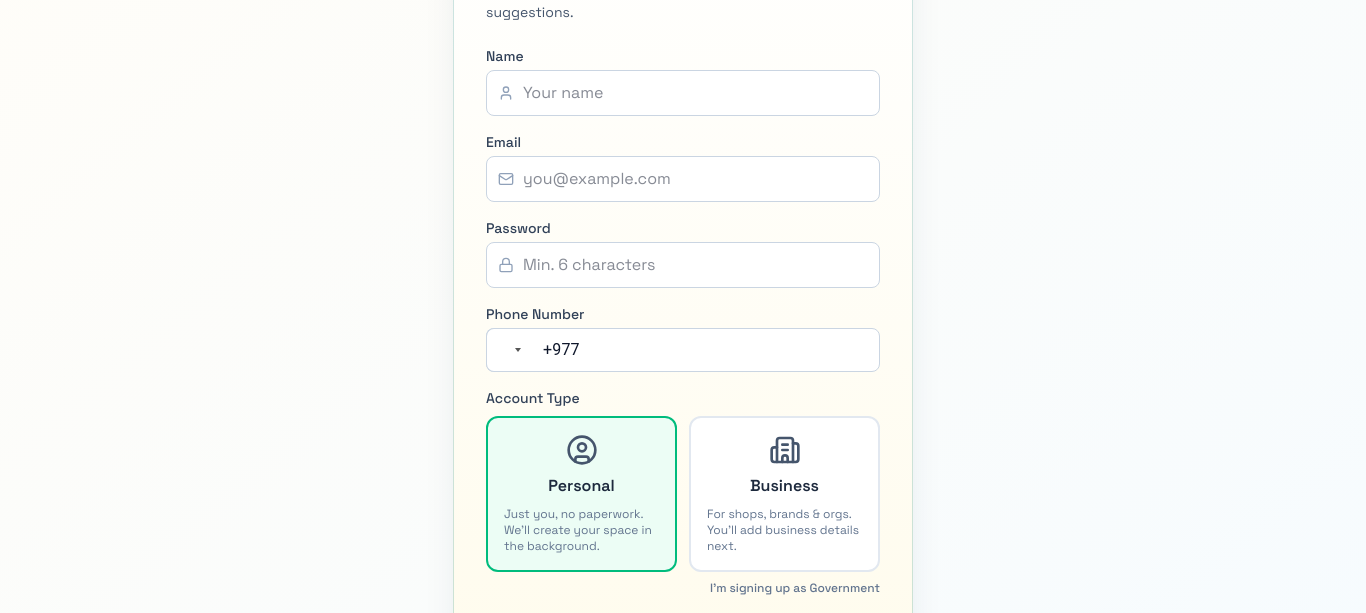
Signup Component › with Business selected, shows business fields and hides avatar picker
Click the button "Business".
click(784, 494)  # box [689,416,880,572]
(page scrolled)
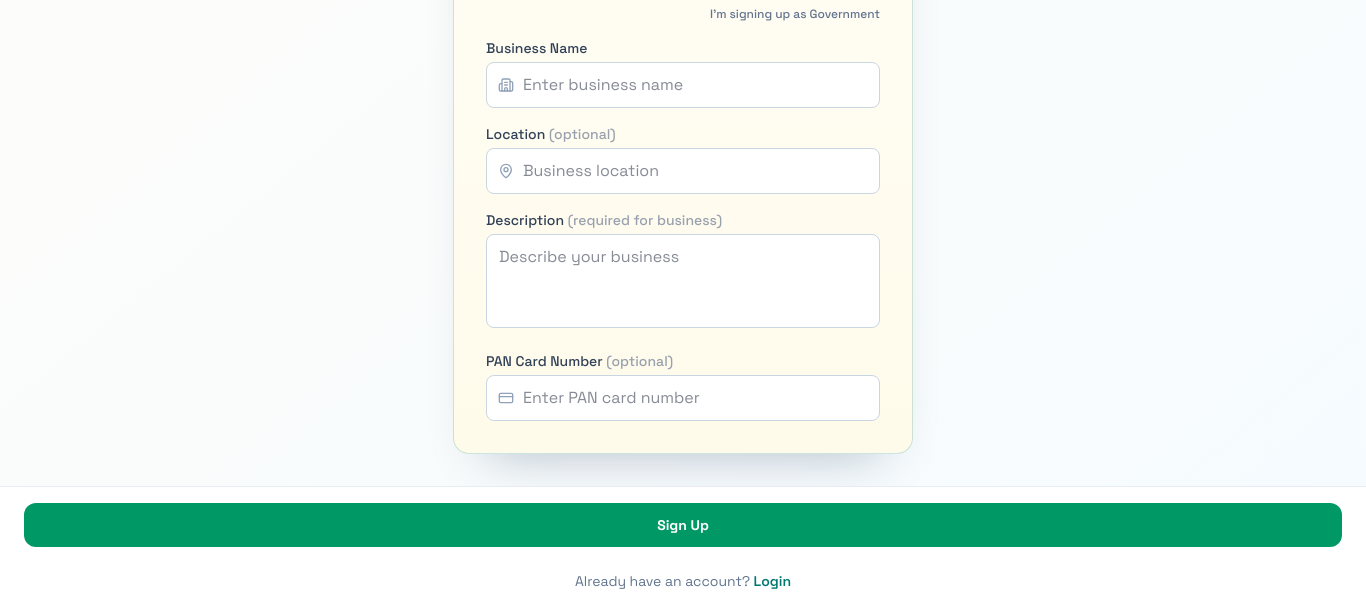
Check: the field labelled "Business Name" is shown, box [486,62,880,108]
Check: the field labelled "Location (optional)" is shown, box [486,148,880,194]
Check: the text box labelled "Description (required for business)" is shown, box [486,234,880,328]
